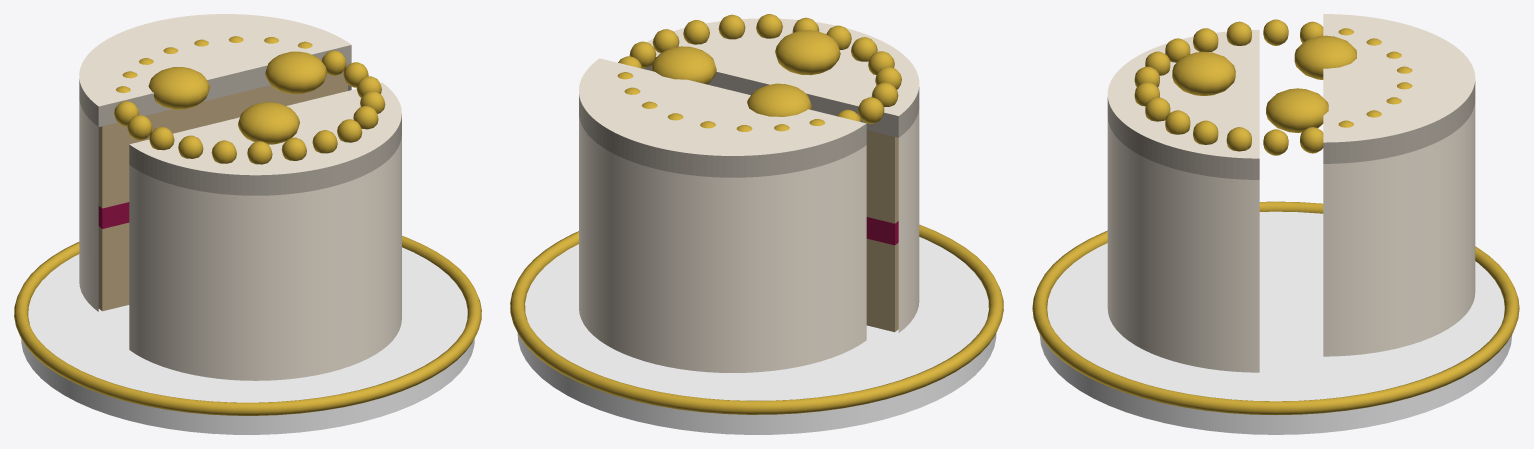
File: torta-10cm-8alto-1p-2porc-vainilla.glb
The picture shows the model from 3 angles, left to right: view 1: azimuth 30°, elevation 25°; view 2: azimuth 150°, elevation 25°; view 3: azimuth 270°, elevation 25°; orthographic projection. The views are drawn at different scales.
Size of the model in its own units: 0.165 by 0.1016 by 0.165.
